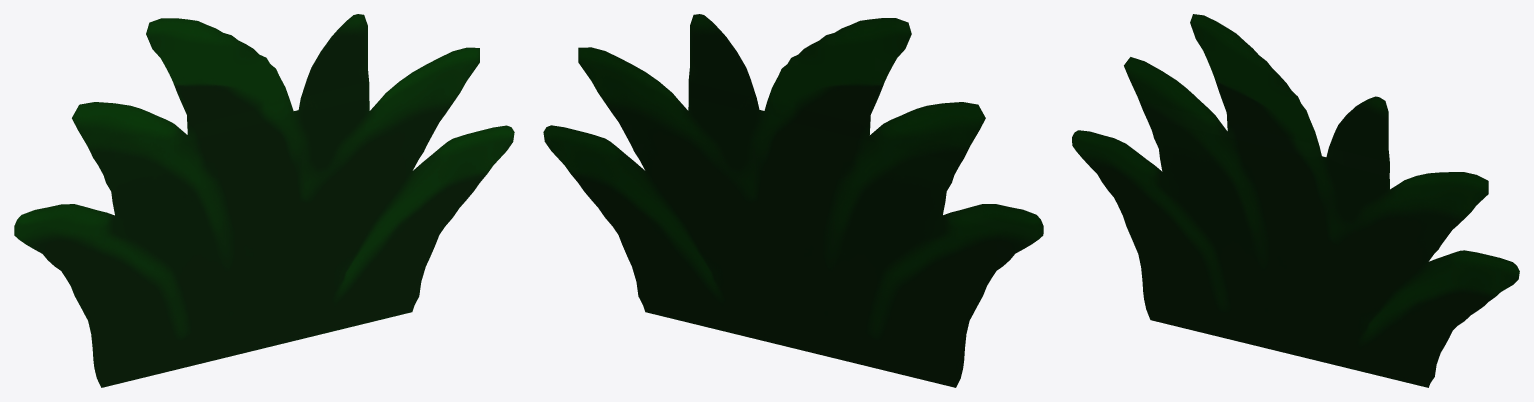
File: grassV1.obj
3 renders of one model, left to right at view 1: azimuth 30°, elevation 25°; view 2: azimuth 150°, elevation 25°; view 3: azimuth 330°, elevation 25°, orthographic. The views are drawn at different scales.
Parts seen in each view (by area): view 1: pPlane9; view 2: pPlane9; view 3: pPlane9.
Boxes of the visible parts, bbox=[...] form: pPlane9: bbox=[14, 14, 514, 387]; pPlane9: bbox=[543, 14, 1043, 387]; pPlane9: bbox=[1072, 14, 1519, 387].
Size of the model in its own units: 1.04 by 0.7052 by 0.000898.
1 material, 1 textured.
